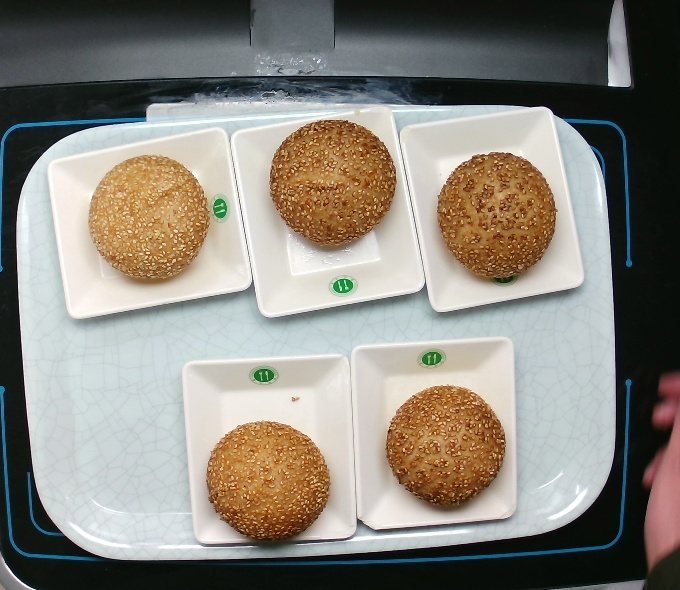wcq-MaCi: (433, 138, 562, 293), (200, 410, 334, 557), (379, 377, 510, 518), (267, 116, 398, 254), (83, 156, 213, 288)
